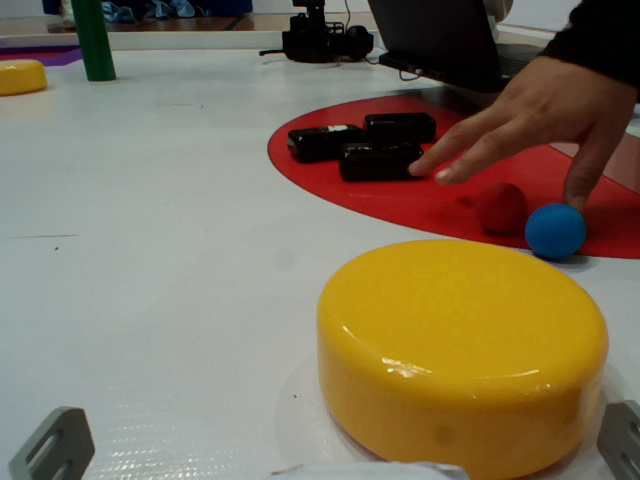black: (326, 143, 449, 189), (277, 119, 371, 159), (357, 109, 447, 144)
blue: (528, 195, 595, 268)
kuang: (1, 40, 84, 70)
red: (475, 181, 527, 248)
yellow: (291, 242, 625, 480), (1, 61, 58, 102)
zhuzi: (63, 1, 130, 85)
